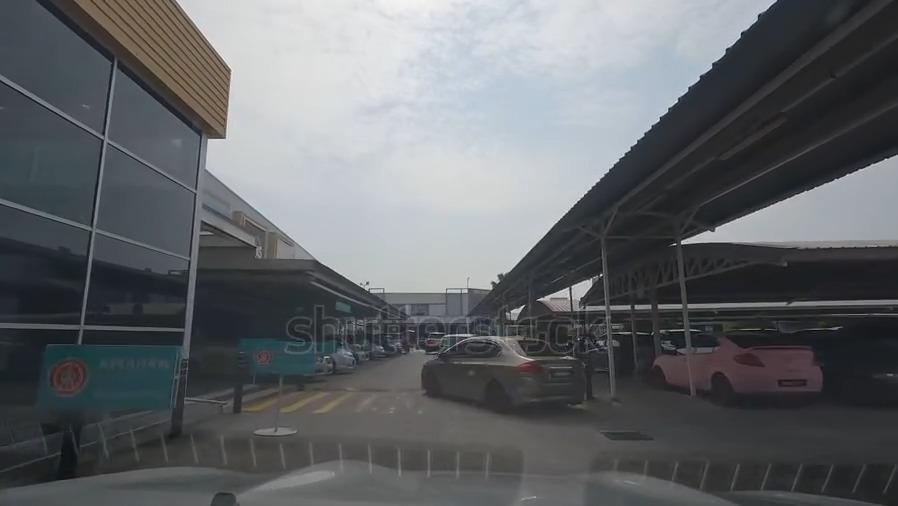car: (419, 339, 590, 403), (657, 339, 819, 395), (804, 331, 898, 403), (586, 332, 662, 373), (442, 335, 463, 349), (427, 331, 441, 349)
manhole: (597, 425, 657, 445)
pedestrian: (236, 395, 506, 420)
speedbump: (311, 382, 424, 397)
wheel: (422, 371, 439, 399), (484, 382, 503, 406)
